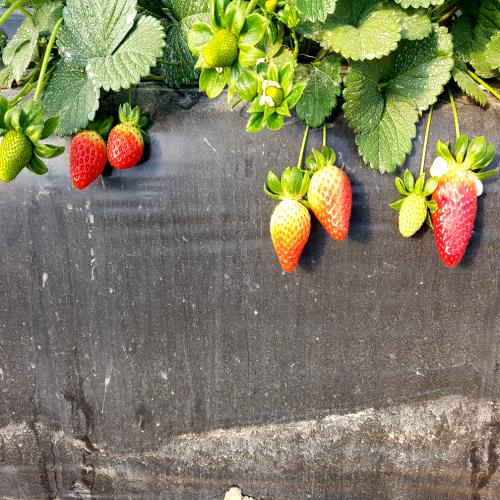ripe: (430, 154, 481, 266), (67, 123, 105, 201), (107, 112, 146, 178)
